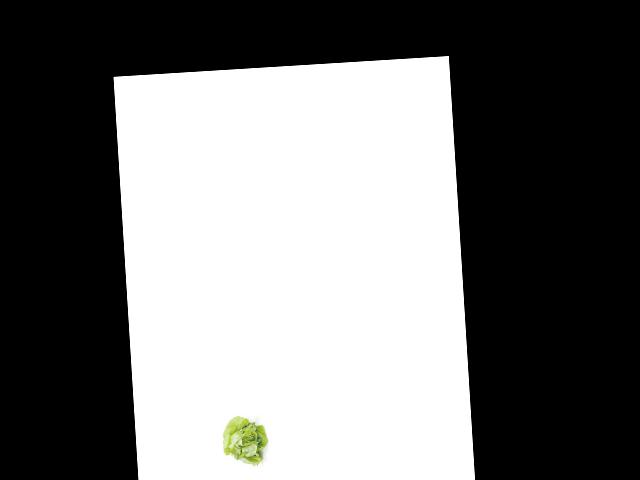lettuce: (217, 413, 272, 469)
